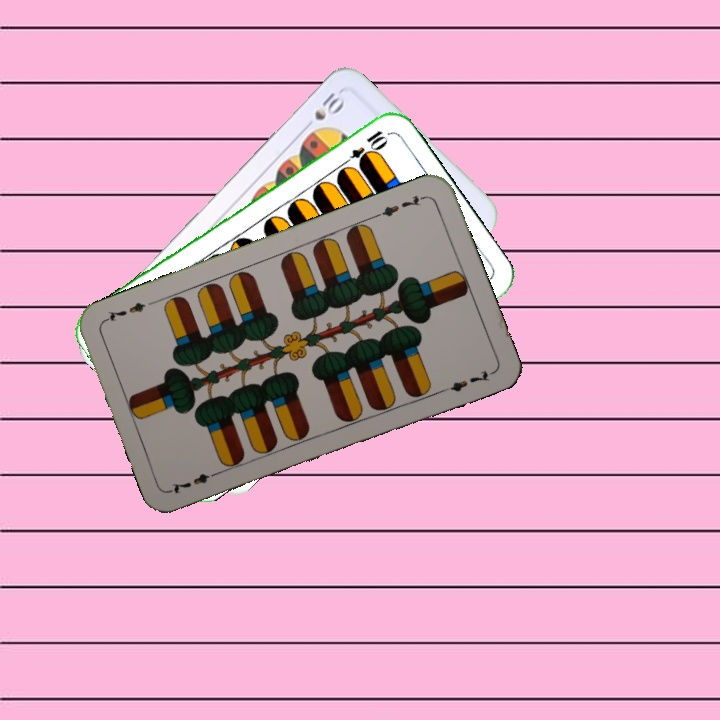E10: (337, 126, 391, 172)
E7: (167, 466, 224, 496), (372, 191, 429, 220)
S10: (298, 87, 347, 134)
